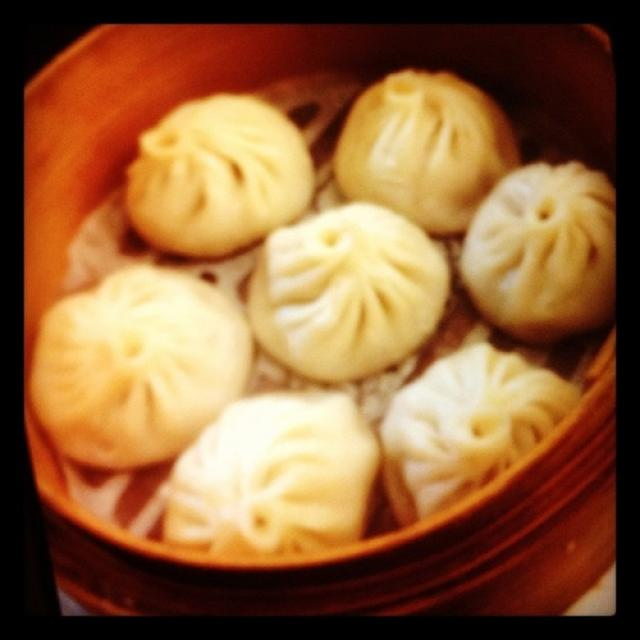带馅早点: (29, 21, 624, 616)
